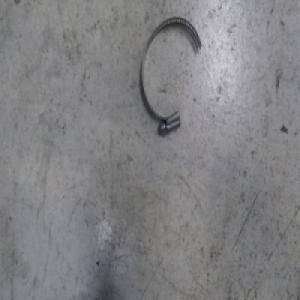AdjustableClamp: (139, 15, 202, 135)
